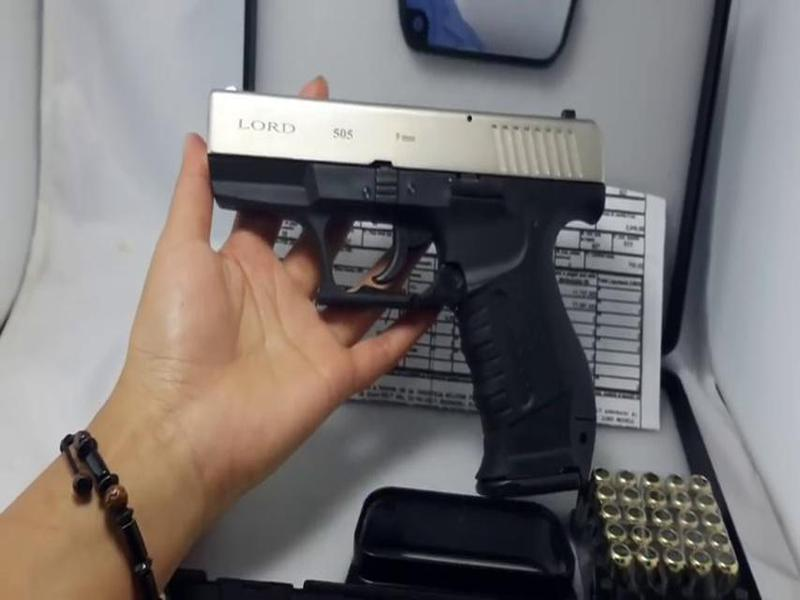Pistola: (180, 75, 640, 523)
